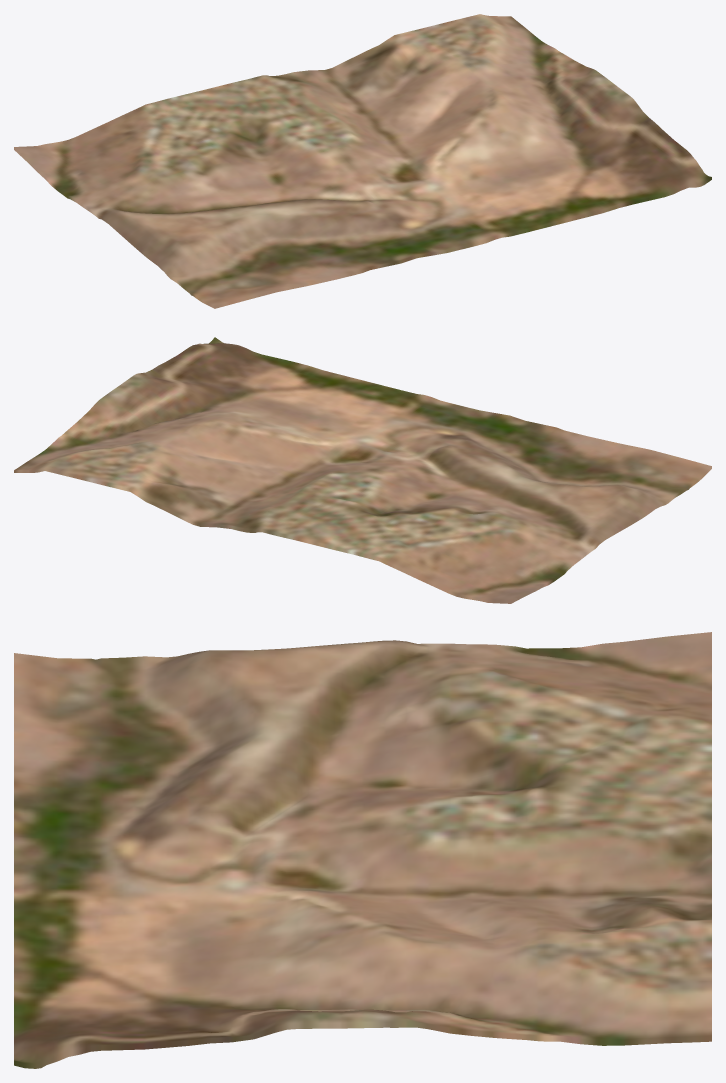
The model's file is terrain_r5_c3_lod1.glb.
3 views of the same model, one above another, from view 1: azimuth 30°, elevation 25°; view 2: azimuth 150°, elevation 25°; view 3: azimuth 270°, elevation 25° (orthographic). The views are drawn at different scales.
Visible parts, largest first — view 1: terrain_r5_c3_lod1; view 2: terrain_r5_c3_lod1; view 3: terrain_r5_c3_lod1.
Boxes of the visible parts, x1,y1,x2,y2 form: terrain_r5_c3_lod1: (14,14,711,308); terrain_r5_c3_lod1: (14,337,711,603); terrain_r5_c3_lod1: (14,632,711,1068).
Bounding box in the file's own units: 1125 × 81.92 × 787.
Materials: 1 (1 with a texture image).
